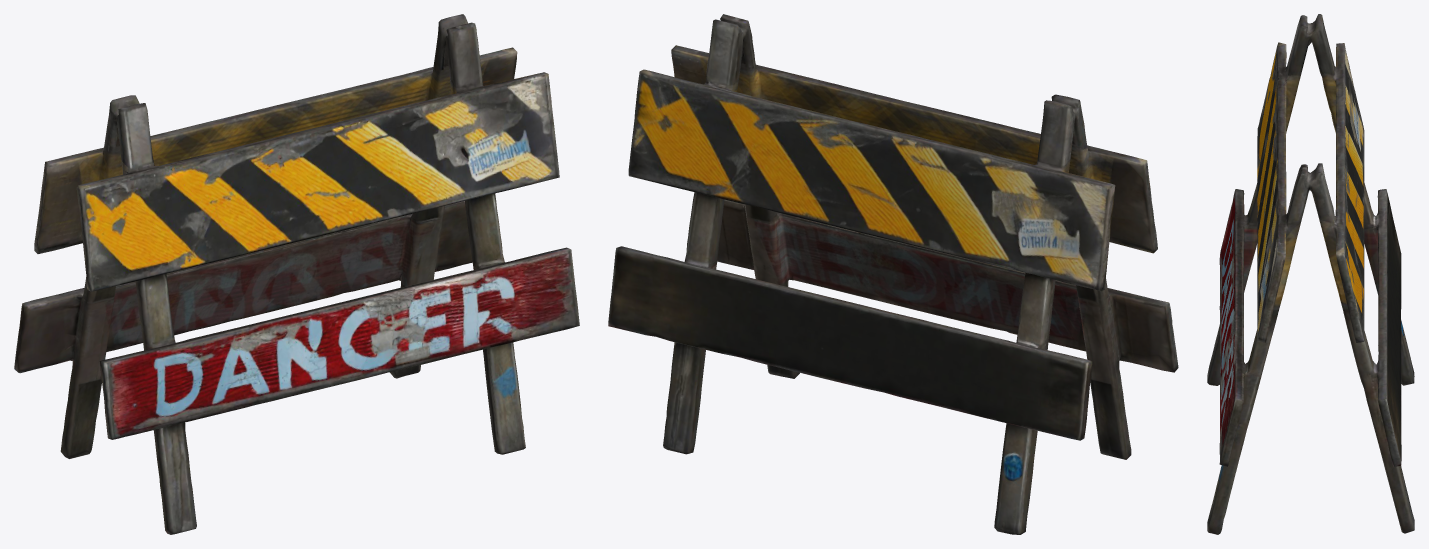
The model's file is DangerBarrier.fbx.
3 renders of one model, left to right at view 1: azimuth 30°, elevation 25°; view 2: azimuth 150°, elevation 25°; view 3: azimuth 270°, elevation 25°, orthographic. The views are drawn at different scales.
Visible parts, largest first — view 1: Mesh1; view 2: Mesh1; view 3: Mesh1.
Boxes of the visible parts, x1,y1,x2,y2 form: Mesh1: (14,14,579,534); Mesh1: (608,14,1178,534); Mesh1: (1207,14,1414,534).
Bounding box in the file's own units: 200 × 161 × 83.2.
1 material, 1 textured.
